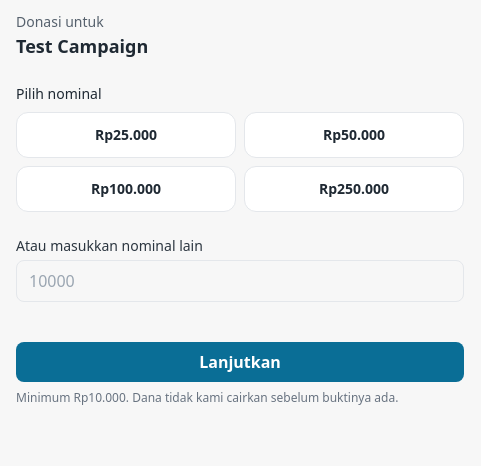
Test: (consumer) campaign/[slug]/donation-amount rendering › refuses an amount above the ceiling, which is a typo guard
Type "5000000000" into the field labelled "Atau masukkan nominal lain" at {"x": 240, "y": 281}, box 16,260 -> 464,302
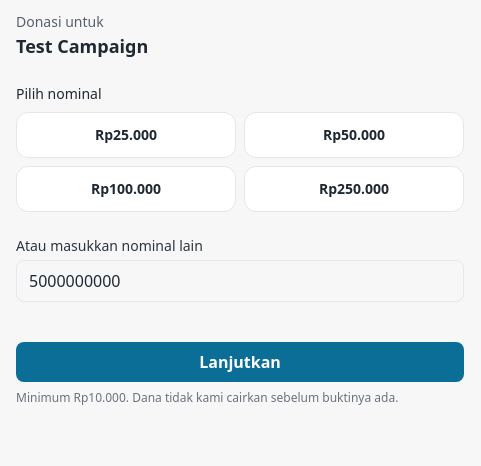
Click the button "Lanjutkan" at {"x": 240, "y": 362}, box 16,342 -> 464,382
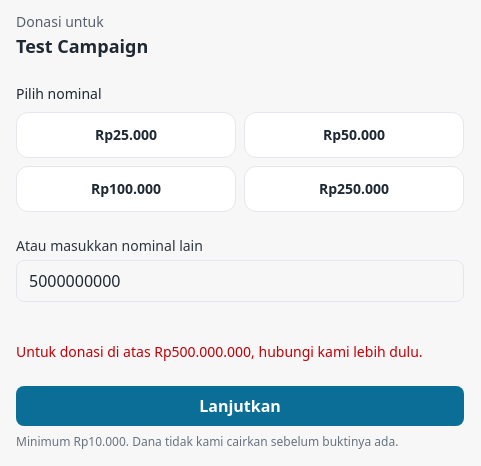
Result: the message "Untuk donasi di atas Rp500.000.000, hubungi kami lebih dulu." is shown at 16,342 -> 464,362
